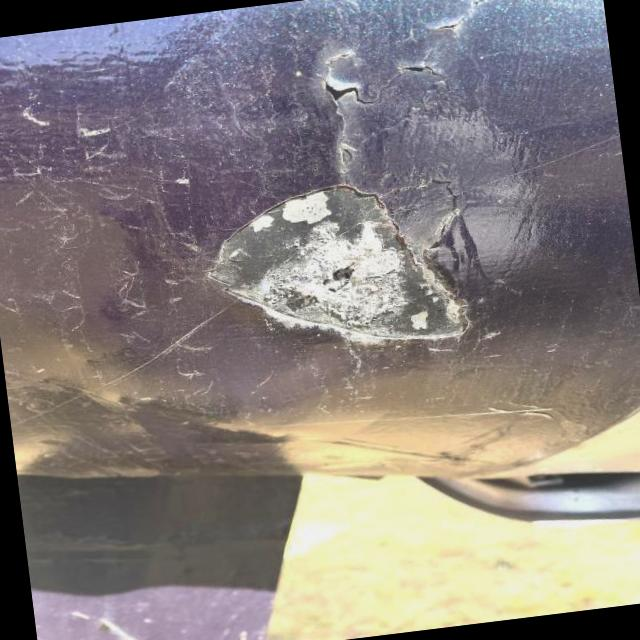crack: (301, 58, 380, 122), (418, 0, 500, 37), (396, 52, 433, 88)
dent: (186, 151, 562, 388)
